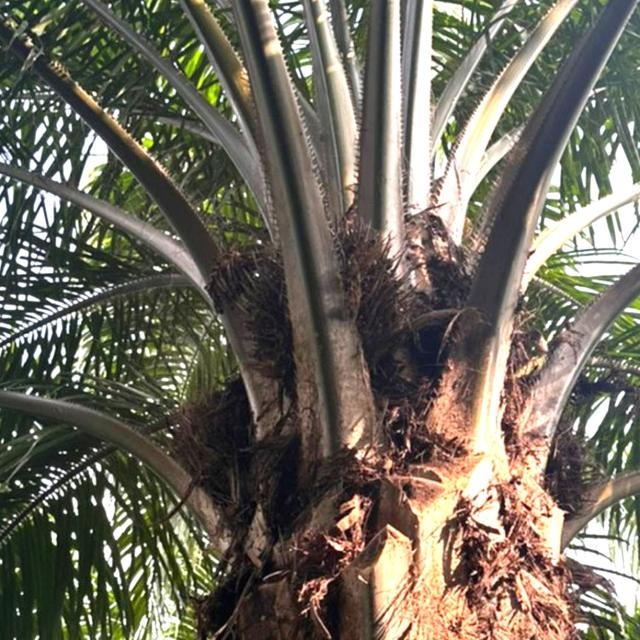ripe: (225, 214, 432, 412)
